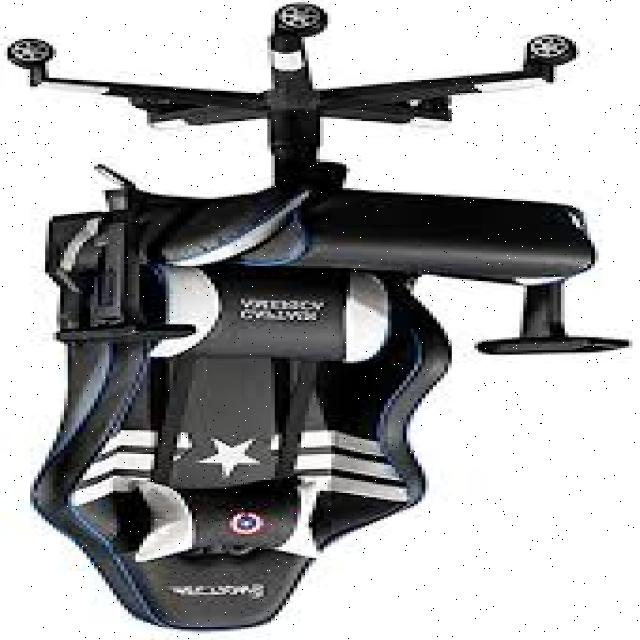bottle: (14, 1, 634, 636)
